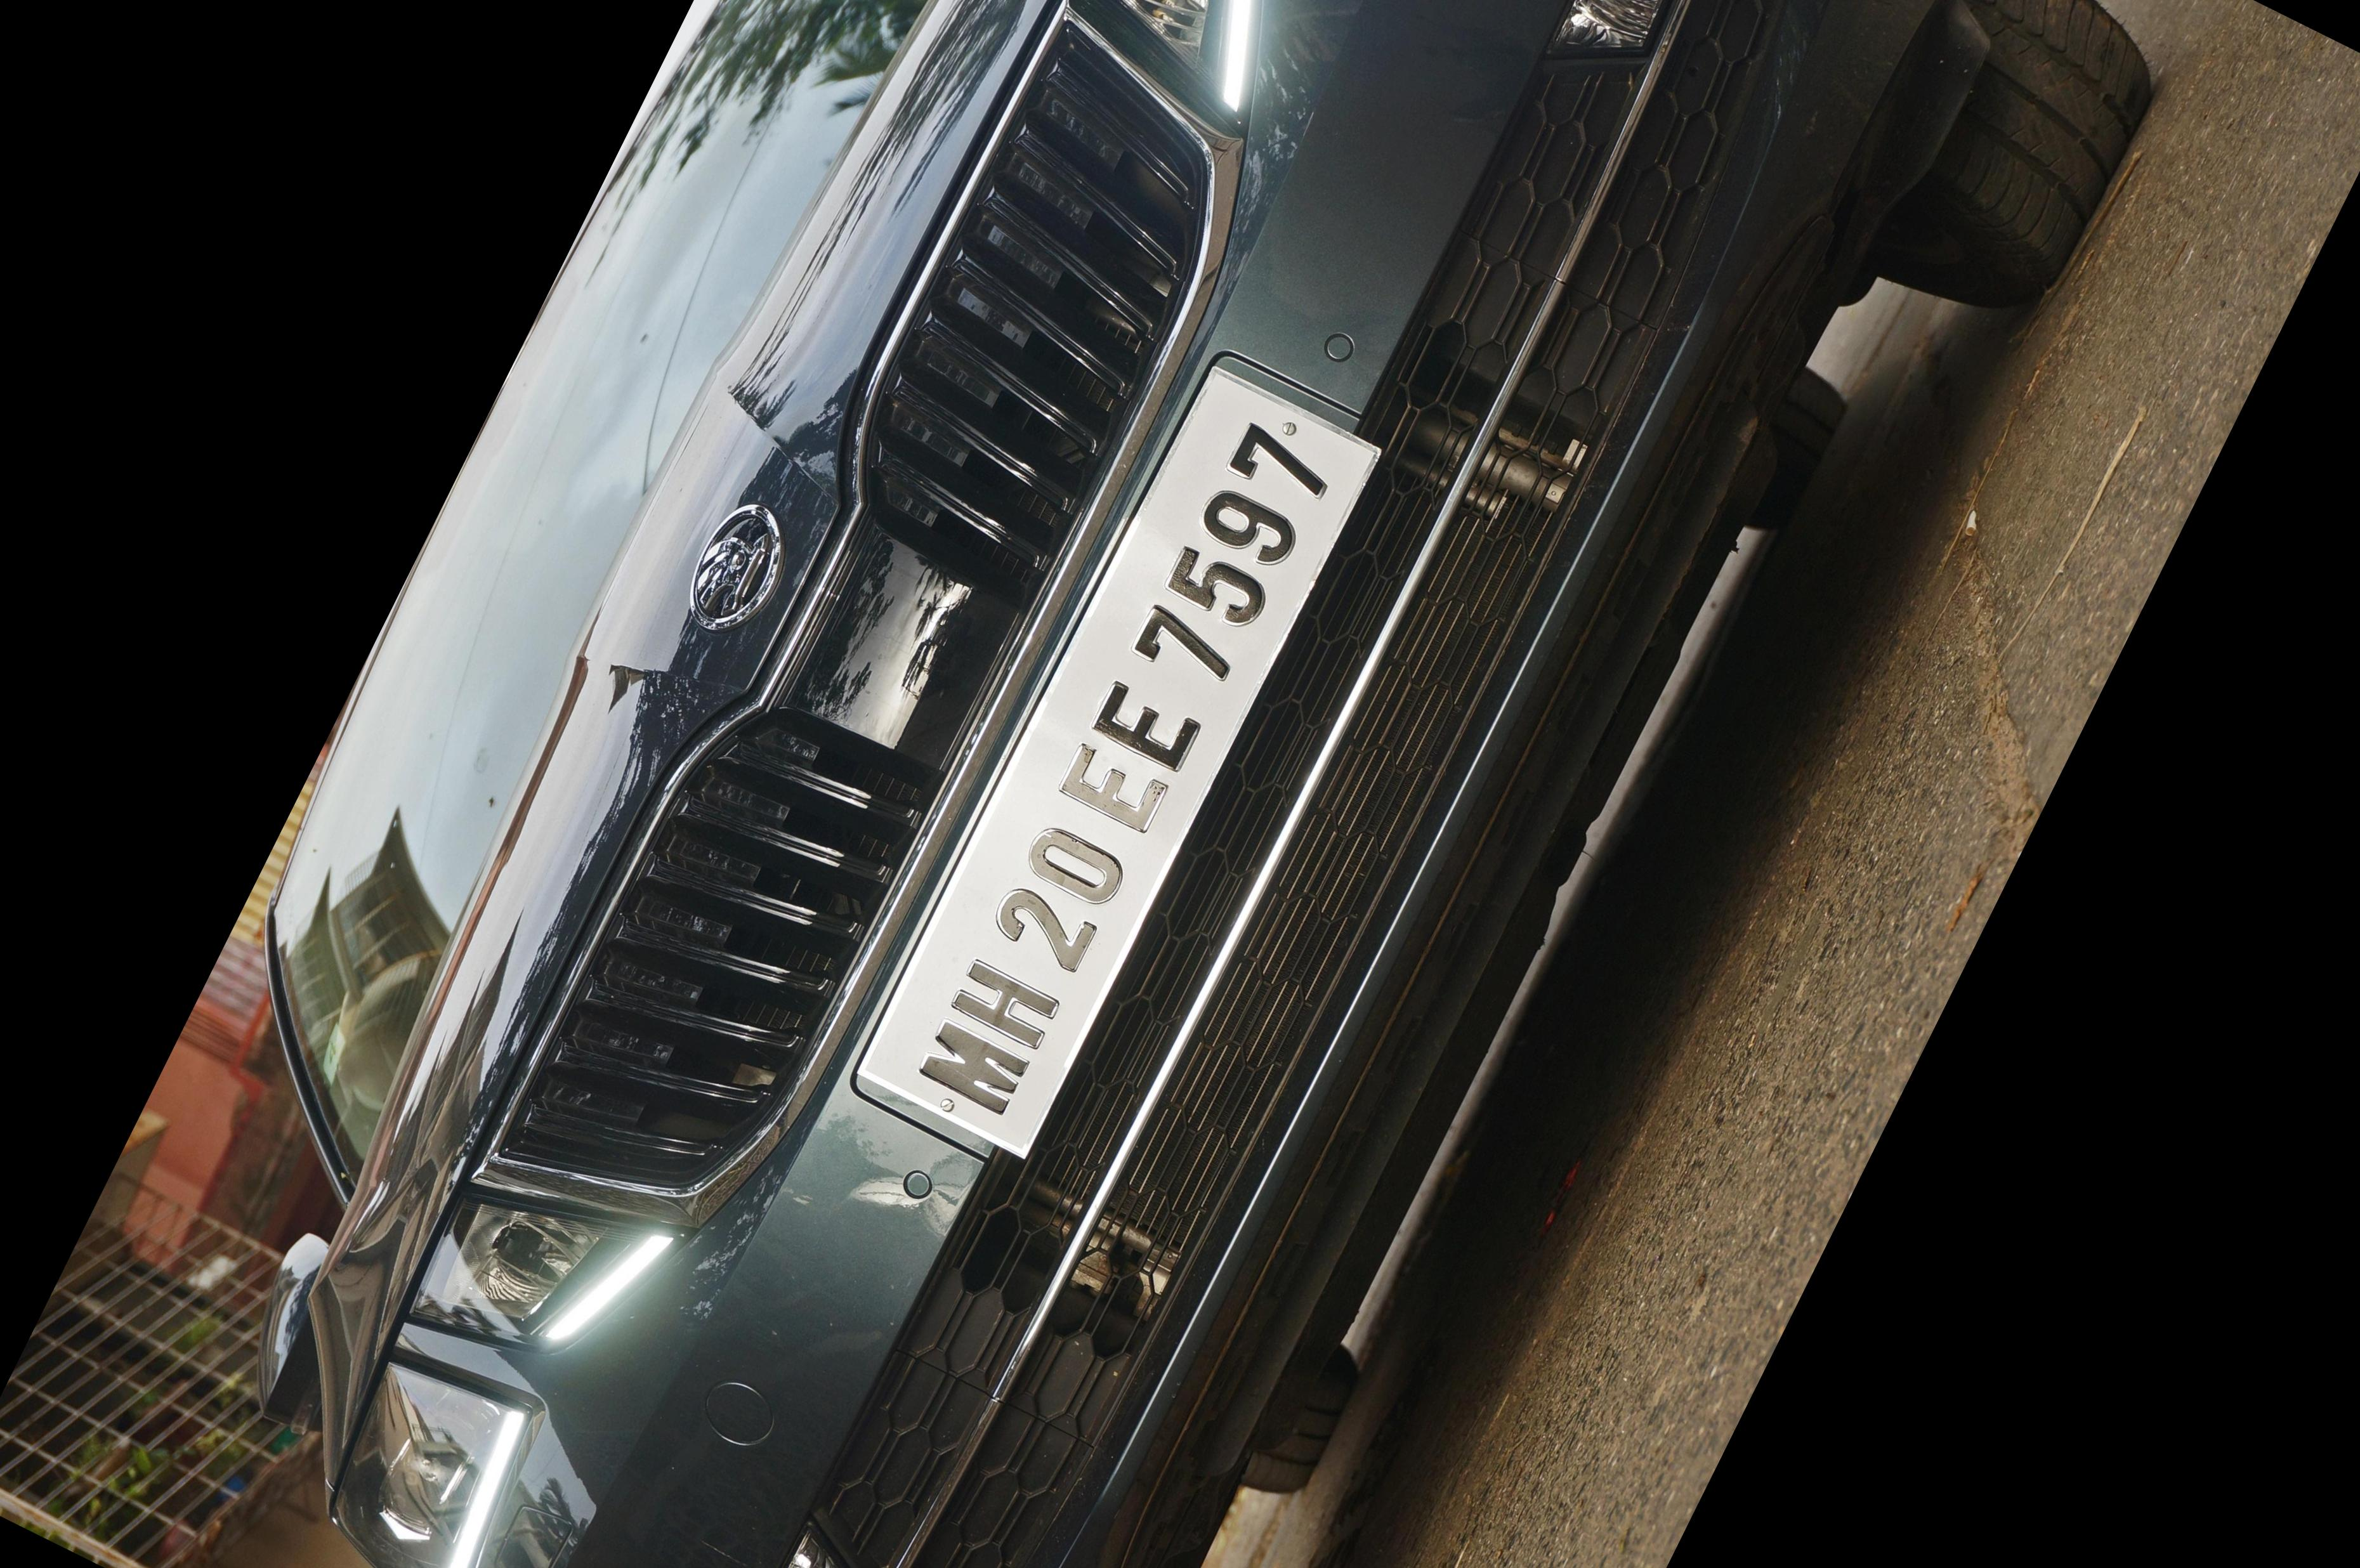plate: (836, 352, 1424, 1201)
